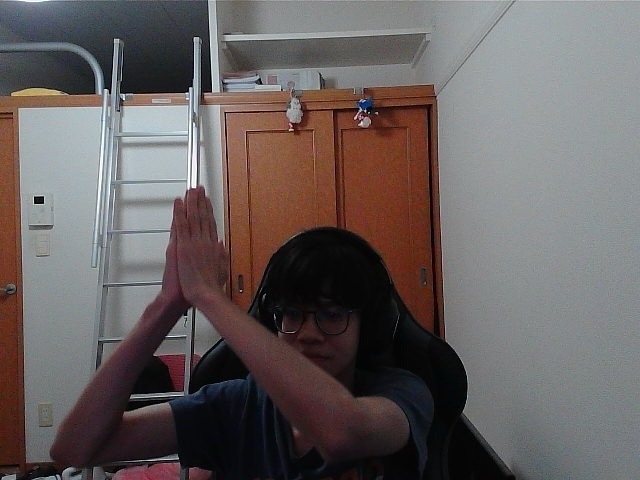pray: (192, 191, 222, 286)
